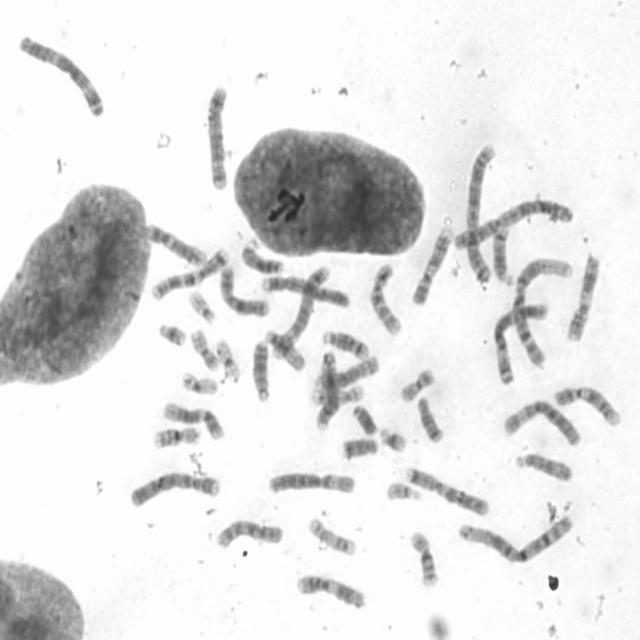A1: (511, 256, 573, 368), (457, 516, 576, 564)
A2: (452, 198, 572, 252), (465, 142, 497, 284)
A3: (18, 34, 108, 119), (492, 300, 551, 386)
B4: (129, 470, 221, 510), (261, 272, 351, 308)
B5: (271, 265, 330, 360), (206, 86, 232, 192)
C10: (368, 263, 402, 335), (216, 519, 283, 548)
C11: (565, 254, 601, 342), (298, 573, 367, 610)
C12: (146, 220, 207, 269), (162, 401, 225, 440)
C6: (503, 399, 584, 448), (268, 470, 357, 496)
C7: (148, 245, 230, 302), (406, 466, 490, 517)
C8: (313, 356, 379, 389), (316, 351, 338, 432)
C9: (408, 227, 456, 307), (552, 384, 623, 426)
D13: (239, 238, 286, 274), (251, 338, 269, 400)
D14: (322, 327, 372, 362), (492, 224, 516, 288)
D15: (262, 326, 308, 374), (515, 452, 573, 483)
E16: (408, 527, 440, 589), (152, 425, 202, 450)
E17: (307, 516, 358, 559), (309, 384, 367, 406)
E18: (416, 395, 445, 445), (340, 438, 378, 460)
F19: (216, 338, 242, 379), (180, 371, 219, 397)
F20: (398, 365, 435, 405), (191, 329, 219, 371)
G21: (378, 426, 408, 455), (158, 322, 187, 350)
G22: (188, 289, 218, 324), (386, 479, 422, 504)
X: (218, 264, 270, 318)
Y: (351, 402, 378, 437)
